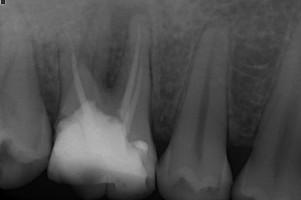Dental Caries: (82, 0, 150, 89)
